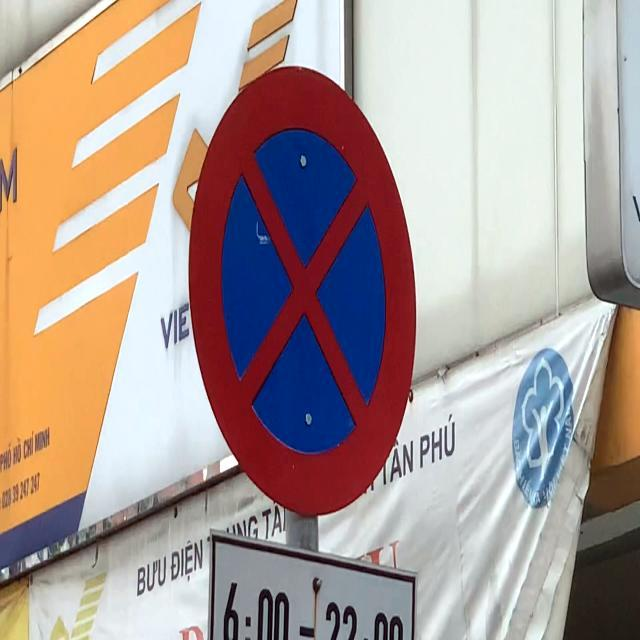Cam dung xe va do xe: (188, 64, 418, 518)
